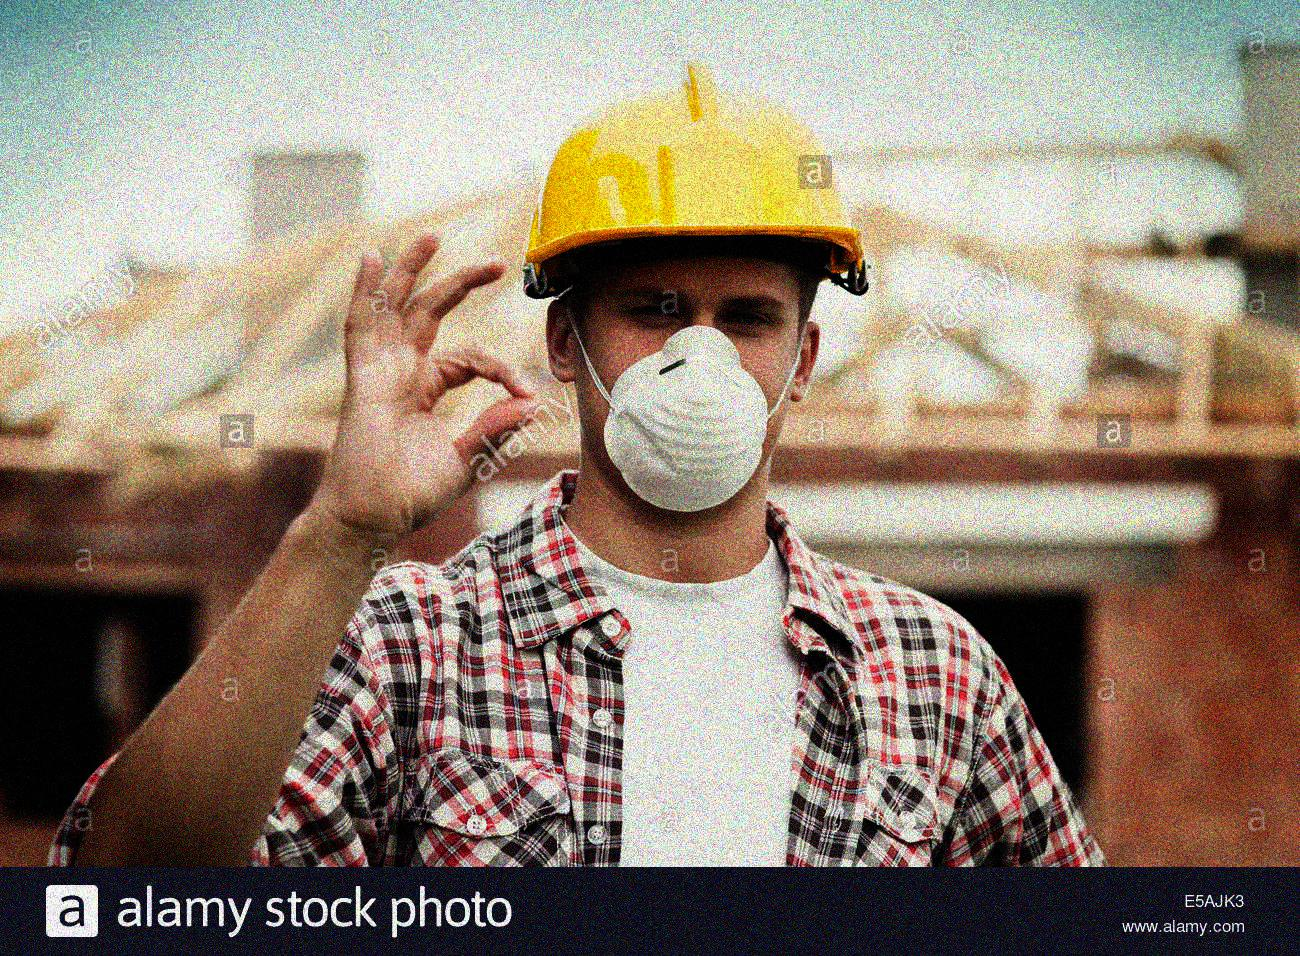helmet: (526, 61, 869, 506)
